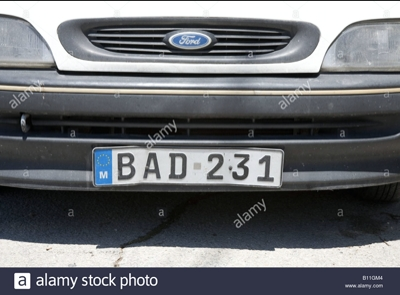Plate: (91, 142, 284, 190)
